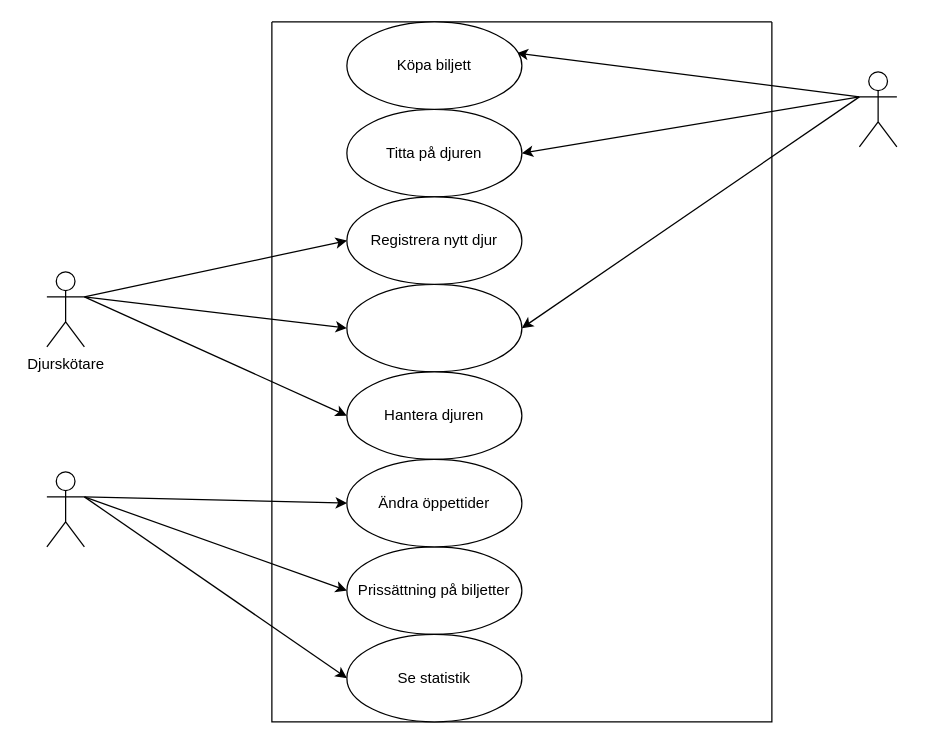
The diagram is 931 pixels wide and 744 high, and some of its shapes have lost their labels. Here are the shapes that lost their labels. From the top down, the centre of each, then its label:
the point at 877,109: Besökare
the point at 434,327: Mata djuren
the point at 65,509: Administratör
